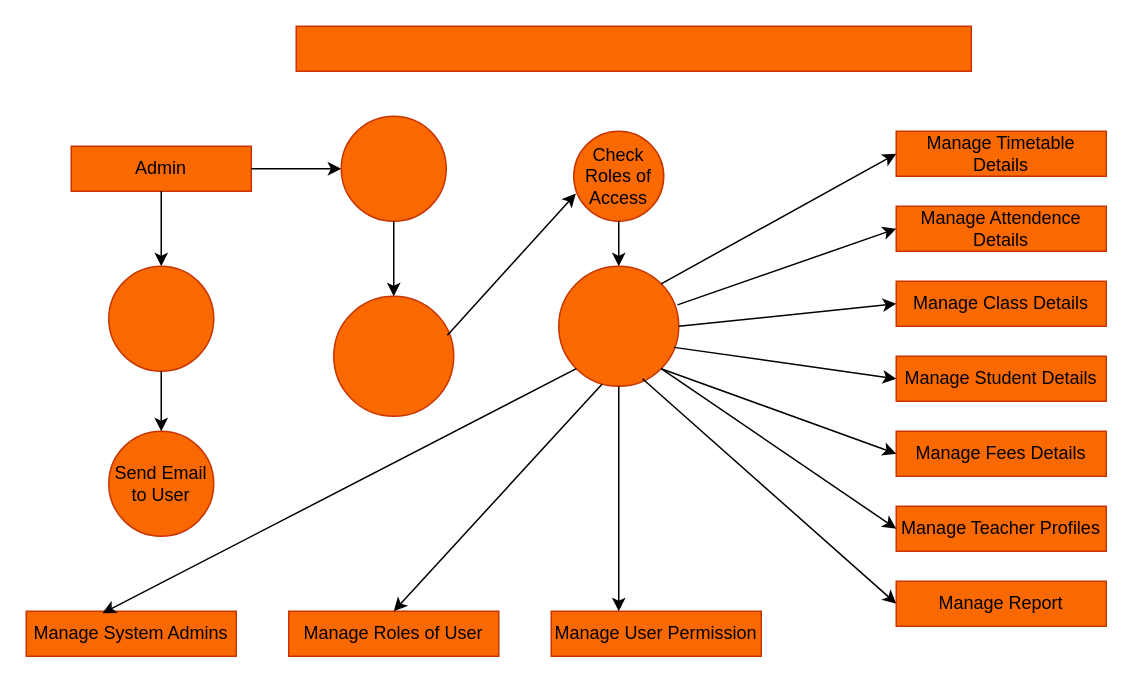
Image size: 1133x683. Some labels were removed from this diagram. The box of each missing label's shape, as (x1, y1, x2, y2) in pixels:
Check Credentials: (332, 295, 454, 416)
Forgot Password: (107, 265, 214, 371)
Logic to System: (340, 115, 446, 221)
Manage Modules: (557, 265, 679, 386)
Student Information System: (295, 25, 971, 71)
